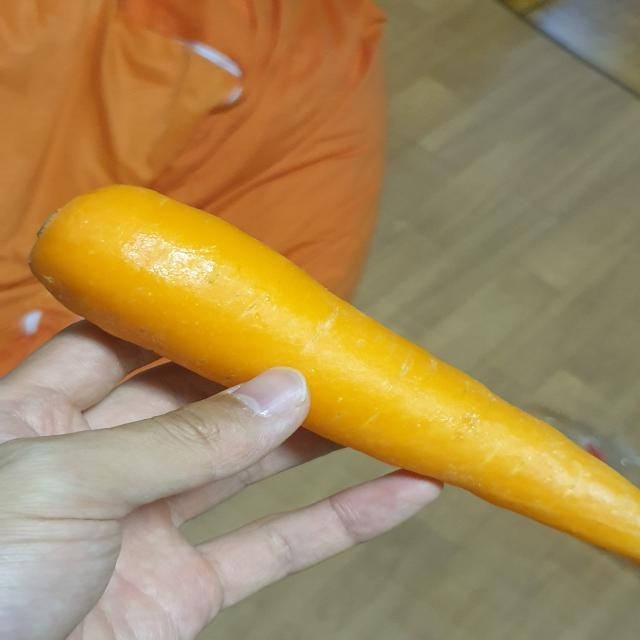Carrot: (15, 169, 640, 585)
